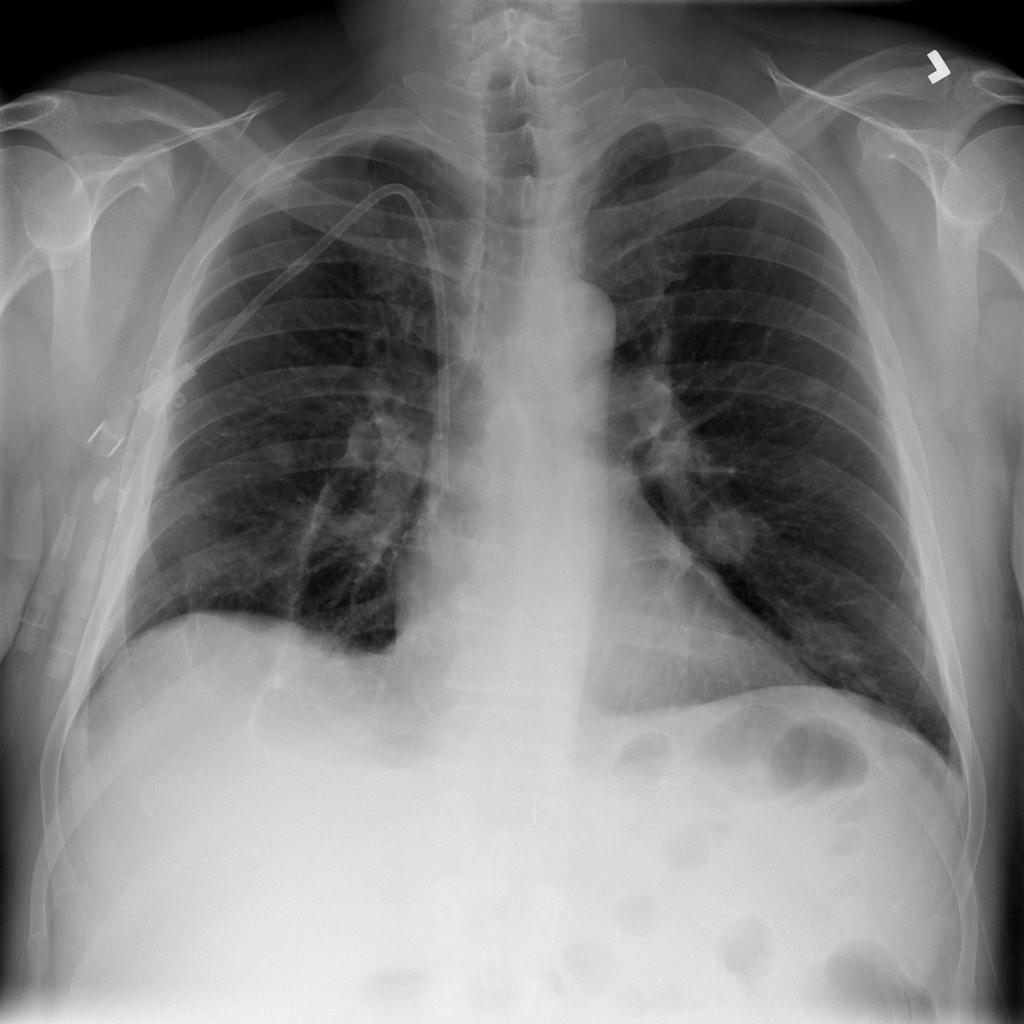nodule: (768, 602, 883, 696), (687, 493, 771, 578), (778, 354, 849, 424), (242, 421, 312, 487)
